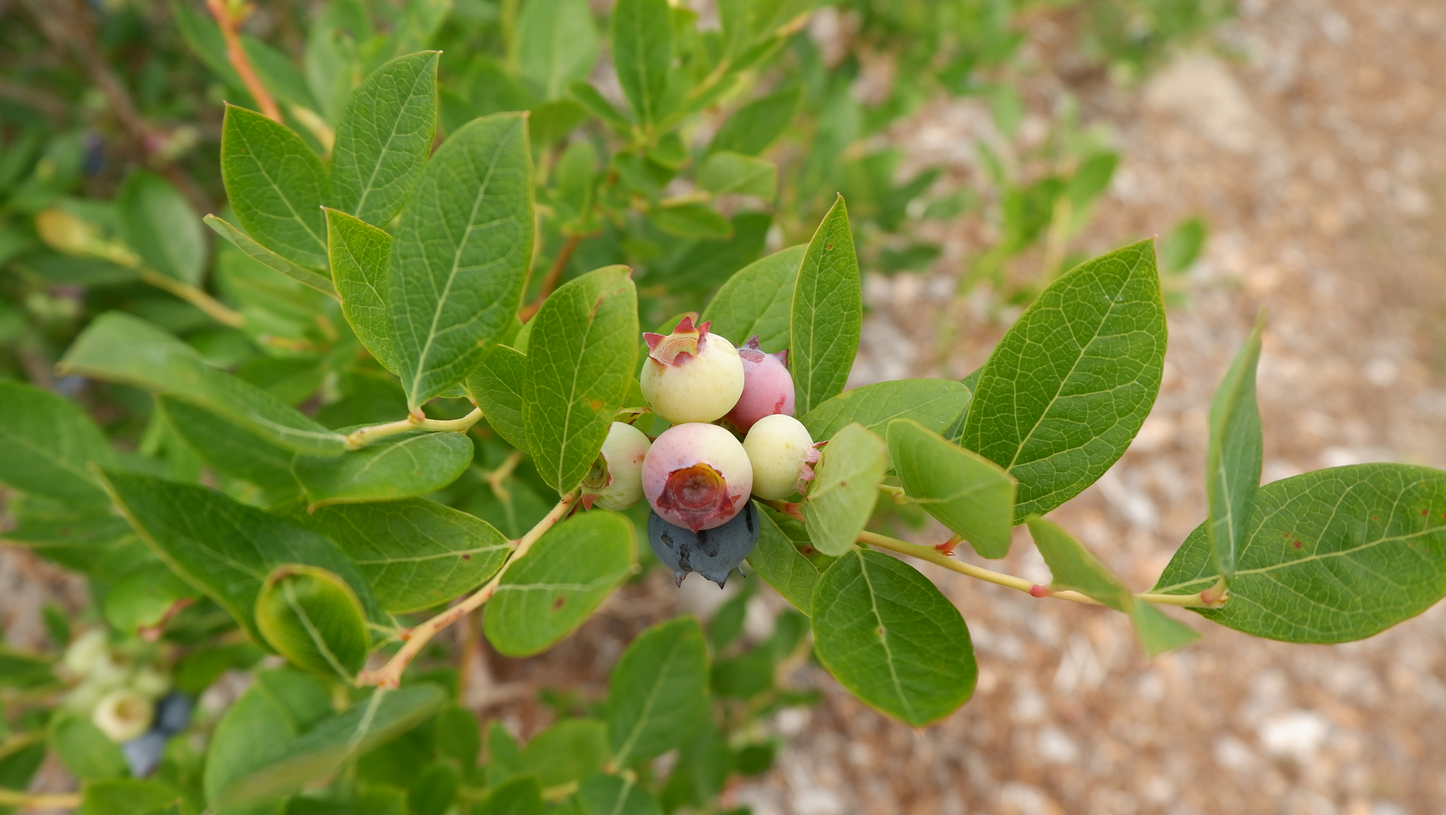Immature: (641, 422, 754, 532), (640, 315, 745, 423), (712, 333, 796, 432), (742, 415, 829, 502), (579, 422, 652, 512)
Mature: (647, 495, 762, 589)
